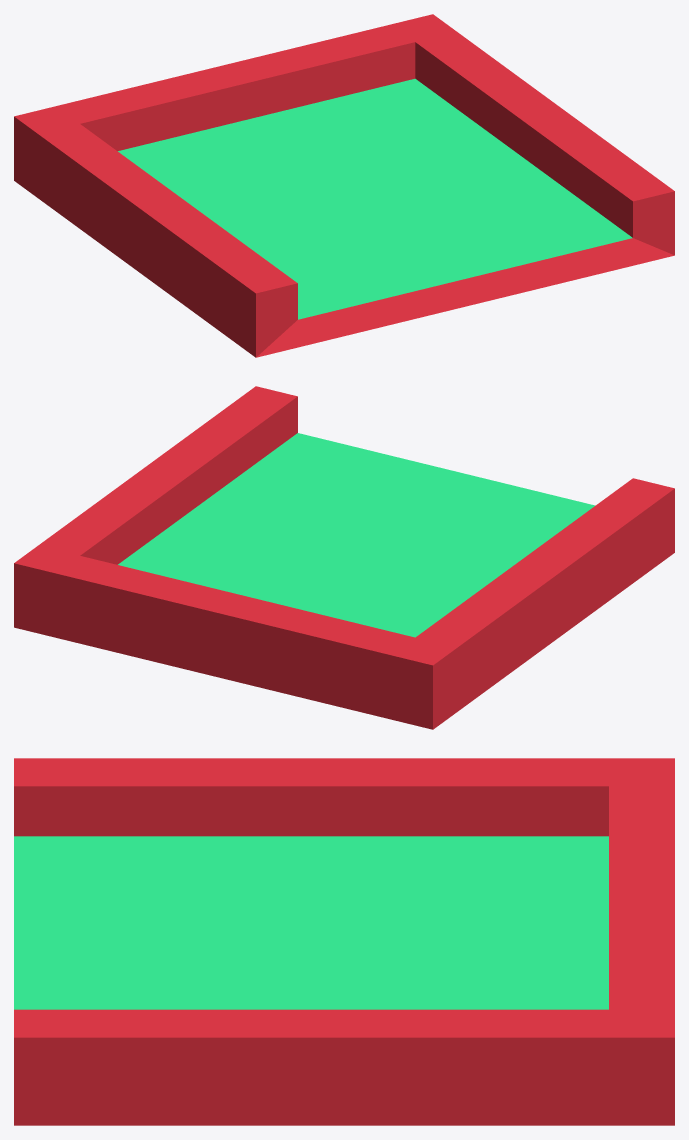
The model's file is end.fbx.
3 renders of one model, top to bottom at view 1: azimuth 30°, elevation 25°; view 2: azimuth 150°, elevation 25°; view 3: azimuth 270°, elevation 25°, orthographic. The views are drawn at different scales.
Visible parts, largest first — view 1: end; view 2: end; view 3: end.
Part boxes in pixels (x1,y1,x2,y2): end: (14, 14, 674, 357); end: (14, 386, 674, 729); end: (14, 758, 674, 1125).
Bounding box in the file's own units: 99.99 × 99.99 × 14.67.
